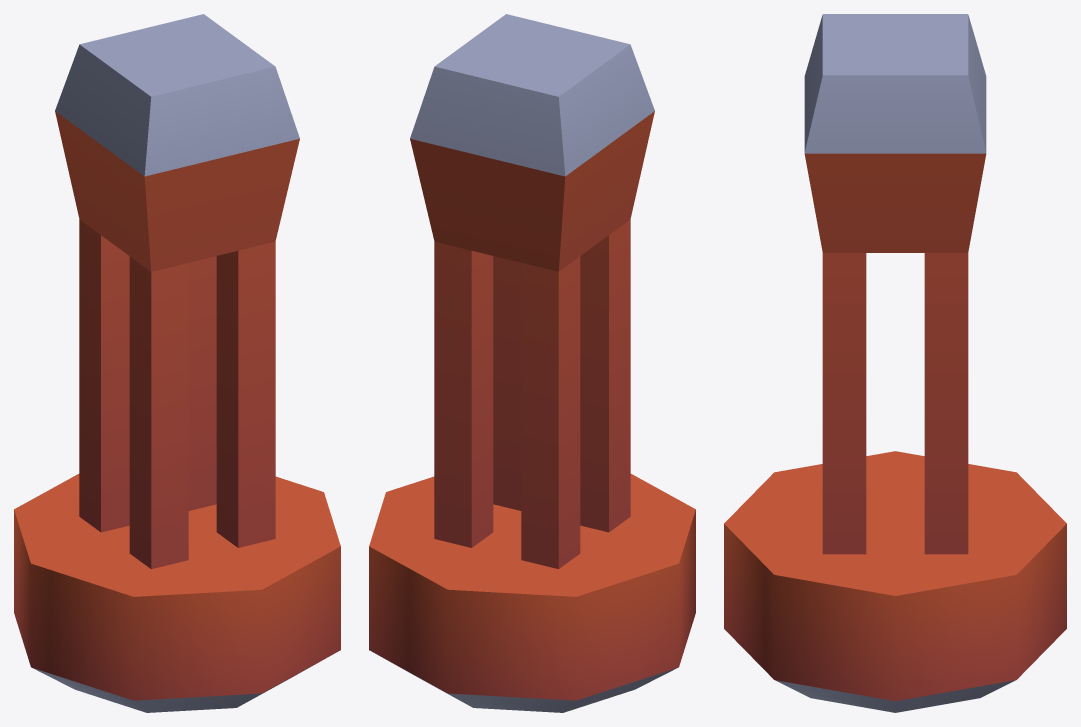
The model's file is buoy.glb.
3 views of the same model, side by side, from view 1: azimuth 30°, elevation 25°; view 2: azimuth 150°, elevation 25°; view 3: azimuth 270°, elevation 25° (orthographic).
Visible parts, largest first — view 1: buoy; view 2: buoy; view 3: buoy.
Boxes of the visible parts, <box> form: buoy: <box>14,14,340,712</box>; buoy: <box>369,14,695,712</box>; buoy: <box>724,14,1066,712</box>.
Bounding box in the file's own units: 0.9282 × 1.84 × 0.9282.
